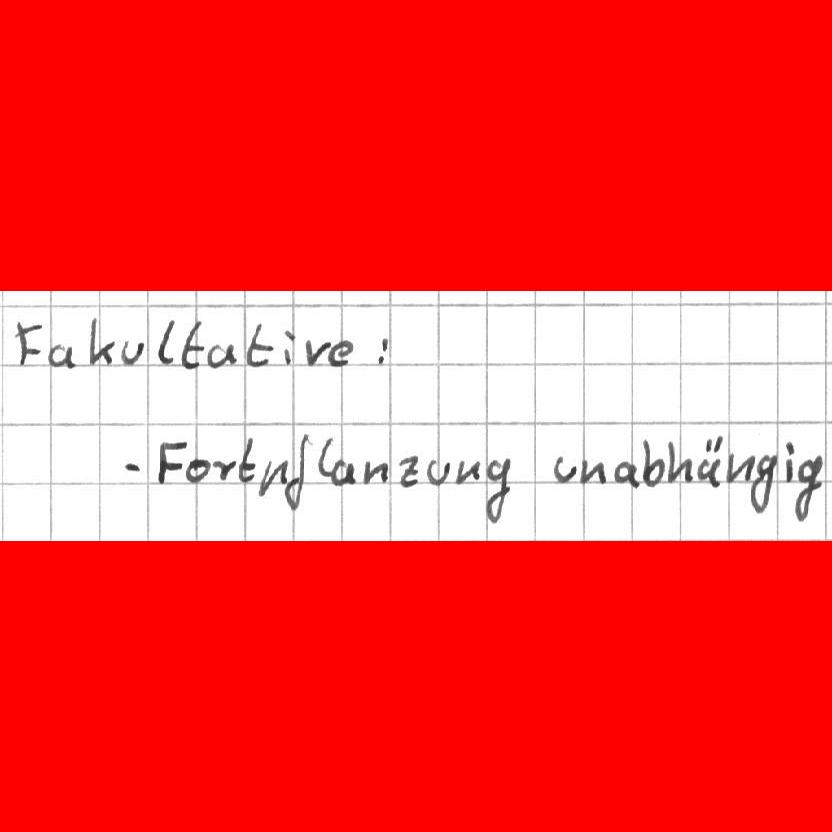Char: (283, 437, 315, 509), (483, 452, 513, 527), (793, 457, 820, 522), (750, 454, 779, 513), (12, 318, 42, 368), (154, 439, 186, 485), (86, 316, 115, 366), (698, 434, 724, 488), (245, 320, 273, 368), (180, 317, 205, 370), (256, 457, 283, 503), (665, 439, 693, 483), (155, 318, 176, 368), (640, 438, 662, 485), (315, 432, 336, 480), (725, 451, 755, 482), (236, 437, 256, 482), (207, 340, 236, 369), (47, 341, 75, 370), (397, 454, 421, 487), (303, 337, 328, 368), (580, 456, 606, 485), (427, 457, 452, 486), (331, 458, 356, 487), (329, 339, 354, 368), (614, 458, 638, 488), (361, 459, 388, 485), (456, 457, 481, 484), (553, 456, 577, 484), (121, 339, 145, 367), (281, 327, 297, 367), (186, 457, 210, 483), (374, 334, 390, 367), (213, 458, 236, 480), (784, 440, 795, 484), (121, 459, 142, 477)
